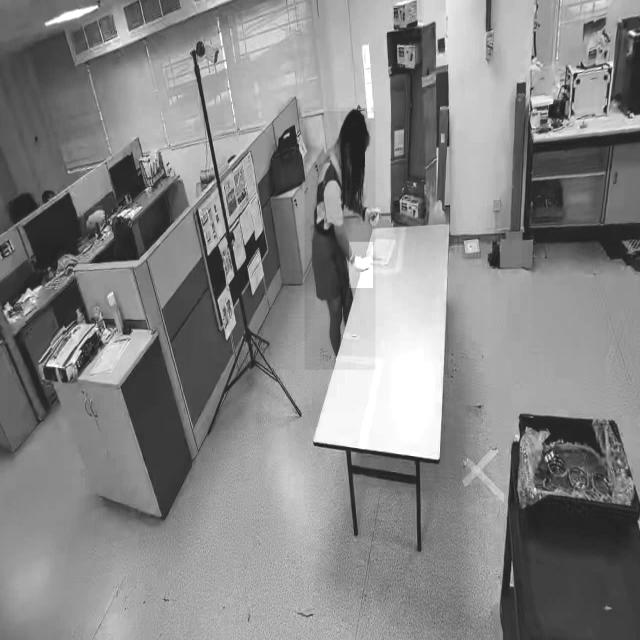hand_glove: (349, 242, 373, 289), (356, 211, 380, 225)
head_nohelmet: (340, 108, 372, 134)
person: (304, 111, 376, 371)
